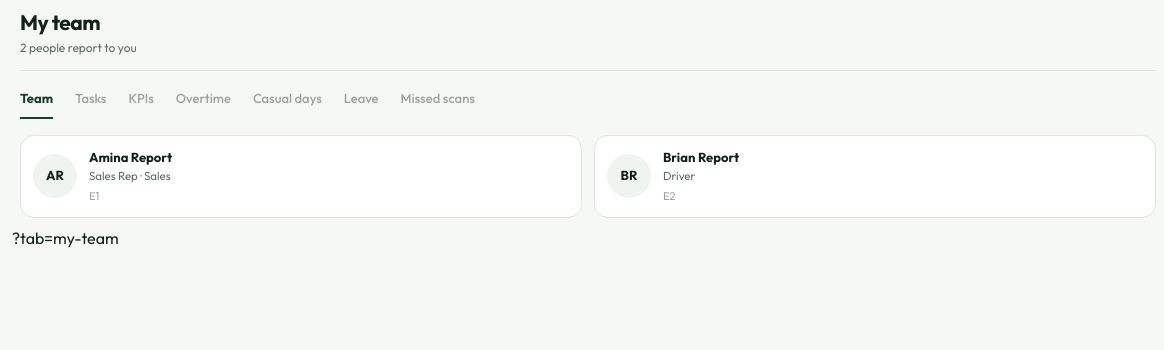
Test: My team › shows Casual days only when they supervise casual workers
What coordinates should you click on to do the following:
click the button "Casual days"
I would click on:
 (287, 104)
Its box is [253,89,322,118].
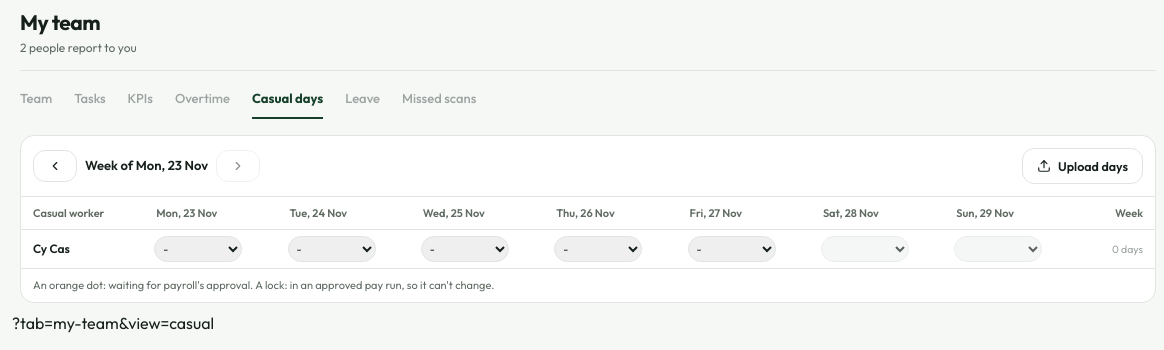
Expected: the text "Cy Cas" is shown, [33,241,70,256]
